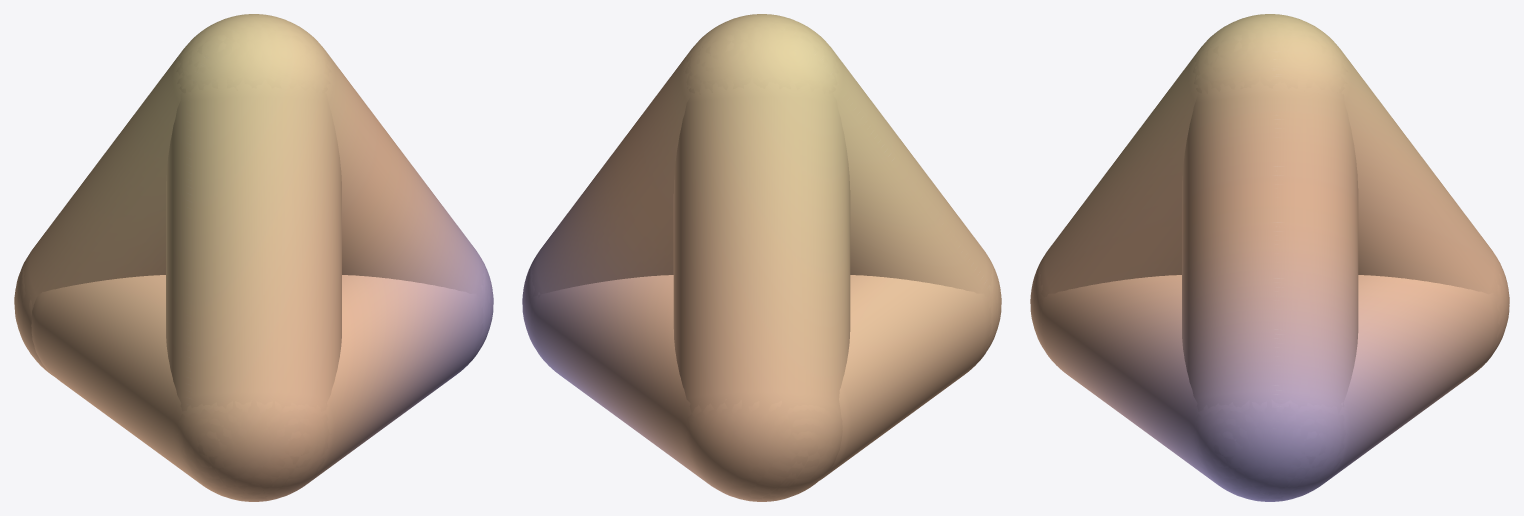
File: 09_pillowtri_static.glb
The picture shows the model from 3 angles, left to right: view 1: azimuth 30°, elevation 25°; view 2: azimuth 150°, elevation 25°; view 3: azimuth 270°, elevation 25°; orthographic projection.
Visible parts, largest first — view 1: pinch; view 2: pinch; view 3: pinch.
Boxes of the visible parts, bbox=[...] form: pinch: bbox=[14, 14, 493, 501]; pinch: bbox=[522, 14, 1001, 501]; pinch: bbox=[1030, 14, 1509, 501].
Bounding box in the file's own units: 0.116 × 0.116 × 0.1267.
Materials: 1 (1 with a texture image).
